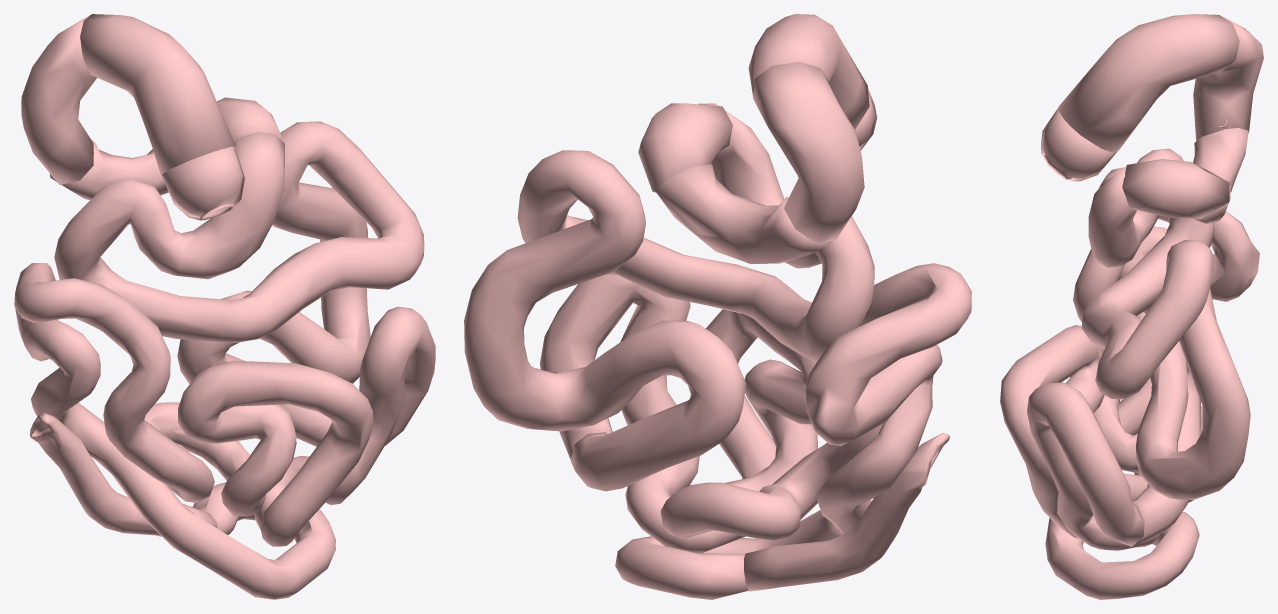
The model's file is vh_f_small_intestine-20.glb.
3 views of the same model, side by side, from view 1: azimuth 30°, elevation 25°; view 2: azimuth 150°, elevation 25°; view 3: azimuth 270°, elevation 25° (orthographic). The views are drawn at different scales.
Parts seen in each view (by area): view 1: VH_F_ileum, VH_F_jejenum, VH_F_duodenum_superior, VH_F_duodenum_descending, VH_F_ileum_terminal, VH_F_duodenal_ampulla, VH_F_duodenum_horizontal, VH_F_duodenum_ascending; view 2: VH_F_ileum, VH_F_jejenum, VH_F_duodenum_descending, VH_F_ileum_terminal, VH_F_duodenum_horizontal, VH_F_duodenum_superior, VH_F_duodenum_ascending; view 3: VH_F_jejenum, VH_F_ileum, VH_F_duodenum_superior, VH_F_duodenum_ascending, VH_F_duodenum_descending, VH_F_duodenal_ampulla, VH_F_duodenum_horizontal.
Part boxes in pixels (box(x1,y1,x2,y2)): VH_F_ileum: box(14, 263, 435, 599); VH_F_jejenum: box(54, 121, 424, 446); VH_F_duodenum_superior: box(80, 14, 235, 175); VH_F_duodenum_descending: box(21, 14, 96, 184); VH_F_ileum_terminal: box(29, 413, 217, 536); VH_F_duodenal_ampulla: box(162, 146, 244, 220); VH_F_duodenum_horizontal: box(50, 138, 168, 200); VH_F_duodenum_ascending: box(217, 97, 281, 141); VH_F_ileum: box(540, 263, 971, 599); VH_F_jejenum: box(464, 103, 874, 491); VH_F_duodenum_descending: box(753, 61, 864, 244); VH_F_ileum_terminal: box(744, 433, 950, 591); VH_F_duodenum_horizontal: box(654, 164, 832, 263); VH_F_duodenum_superior: box(748, 14, 869, 129); VH_F_duodenum_ascending: box(638, 103, 732, 192); VH_F_jejenum: box(1081, 148, 1250, 545); VH_F_ileum: box(1000, 167, 1259, 599); VH_F_duodenum_superior: box(1058, 14, 1239, 152); VH_F_duodenum_ascending: box(1122, 159, 1229, 219); VH_F_duodenum_descending: box(1193, 14, 1263, 141); VH_F_duodenal_ampulla: box(1041, 108, 1117, 181); VH_F_duodenum_horizontal: box(1191, 128, 1248, 223).
Bounding box in the file's own units: 0.1617 × 0.217 × 0.1003.
